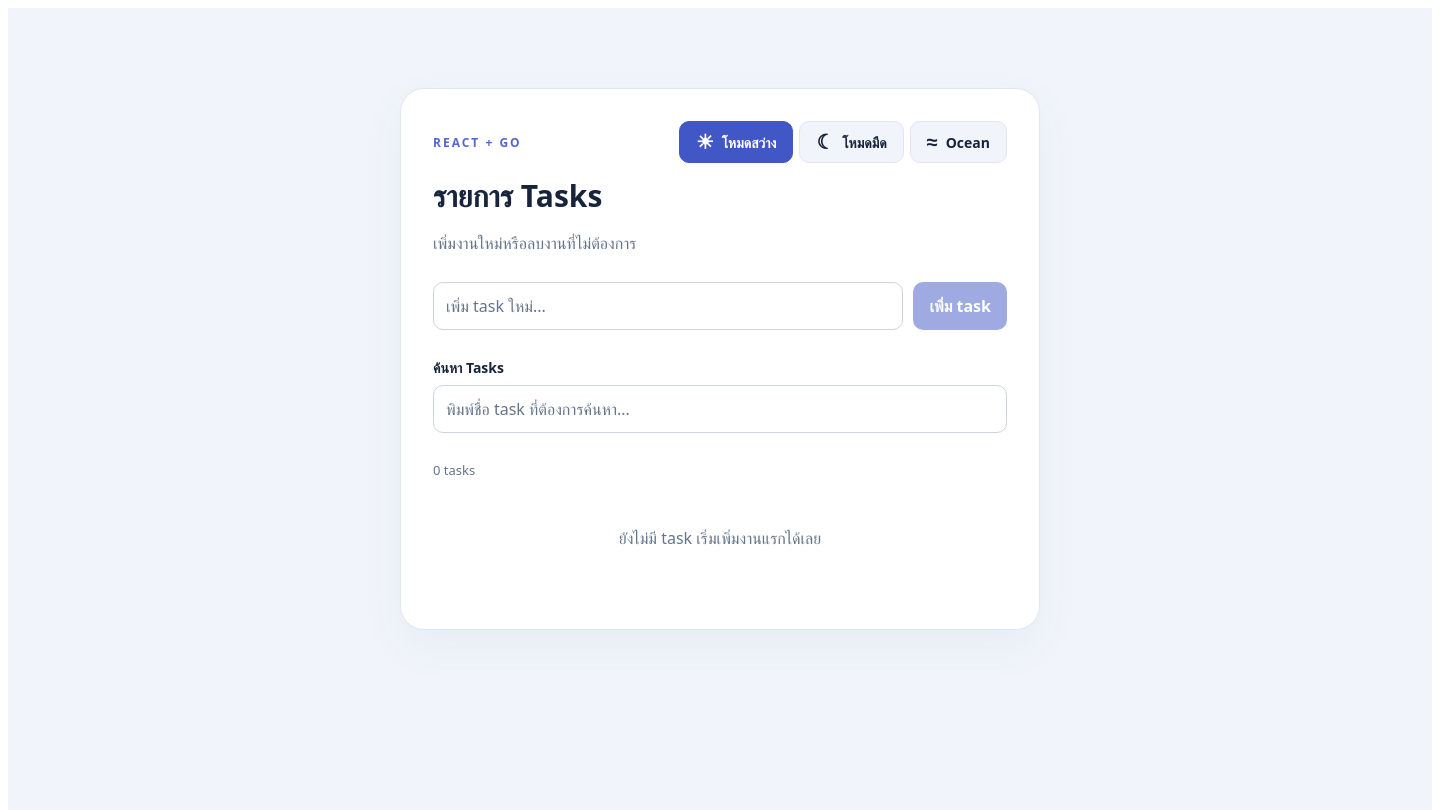
App › keeps the active search when adding and deleting matching tasks
Expected: the text "ยังไม่มี task เริ่มเพิ่มงานแรกได้เลย" is shown, [619, 527, 821, 549]
Type "test" into the search field.
click(720, 409); type("test")  # box [433, 385, 1007, 433]
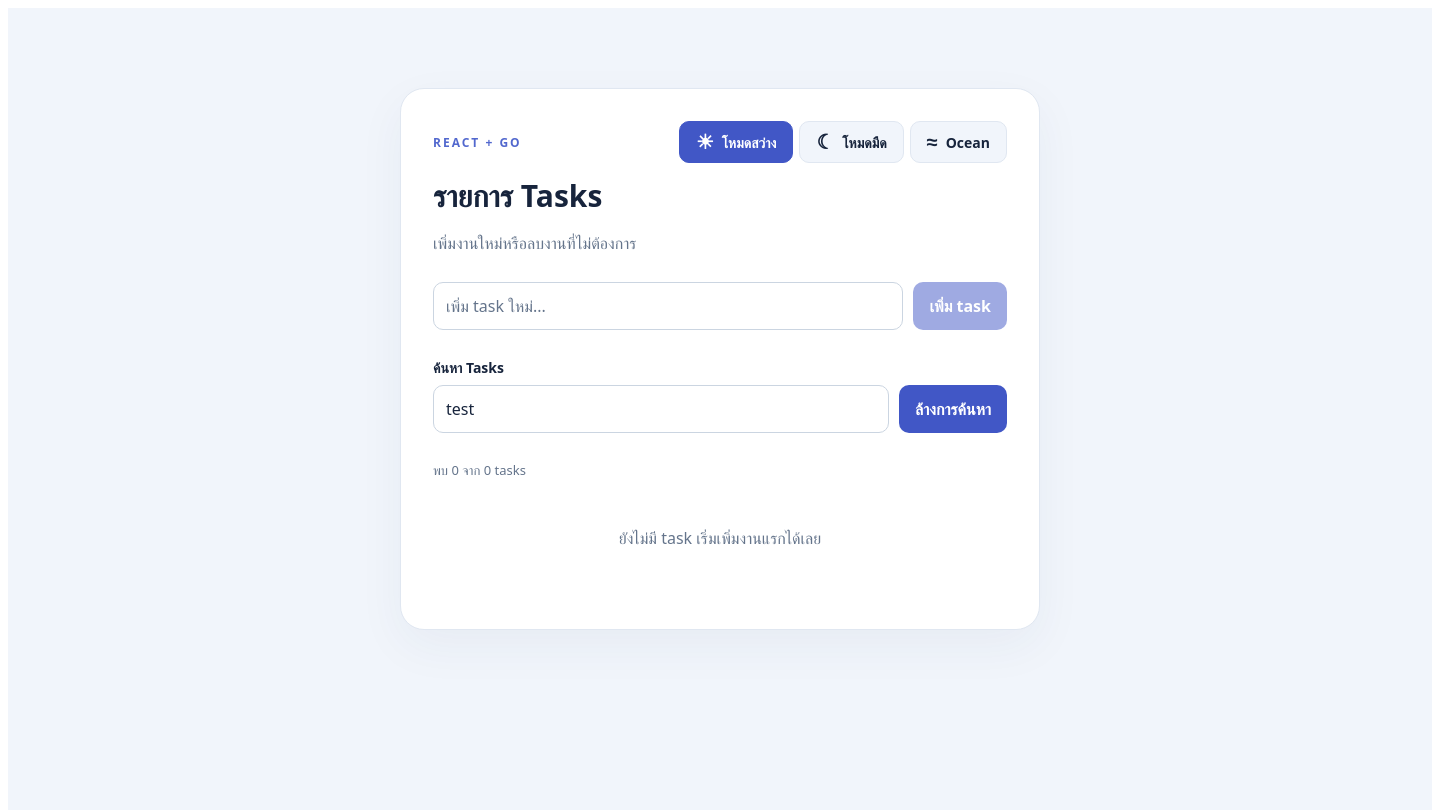
Type "Test task" into the field.
click(668, 306); type("Test task")  # box [433, 282, 903, 330]
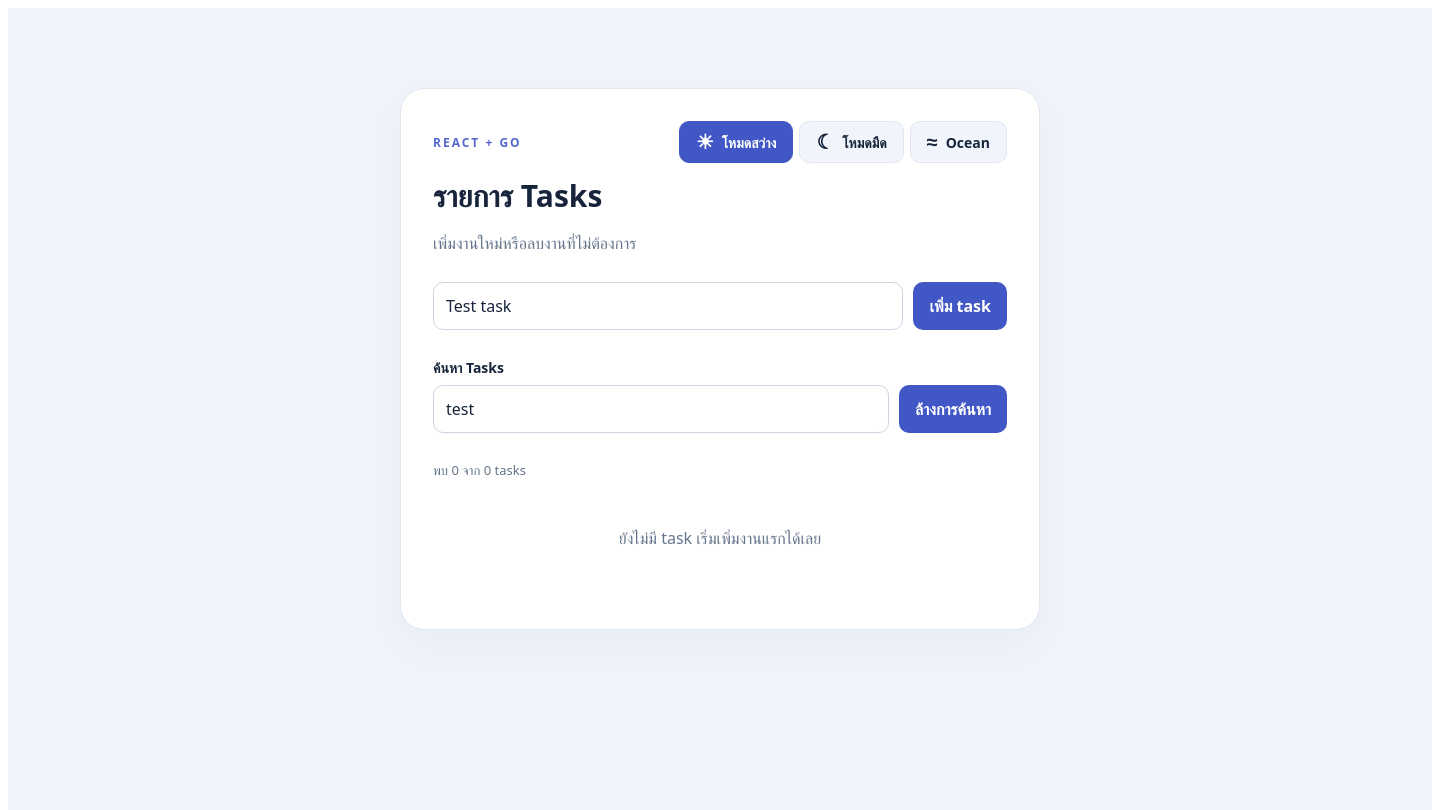
Click the button "เพิ่ม task".
click(960, 306)  # box [913, 282, 1007, 330]
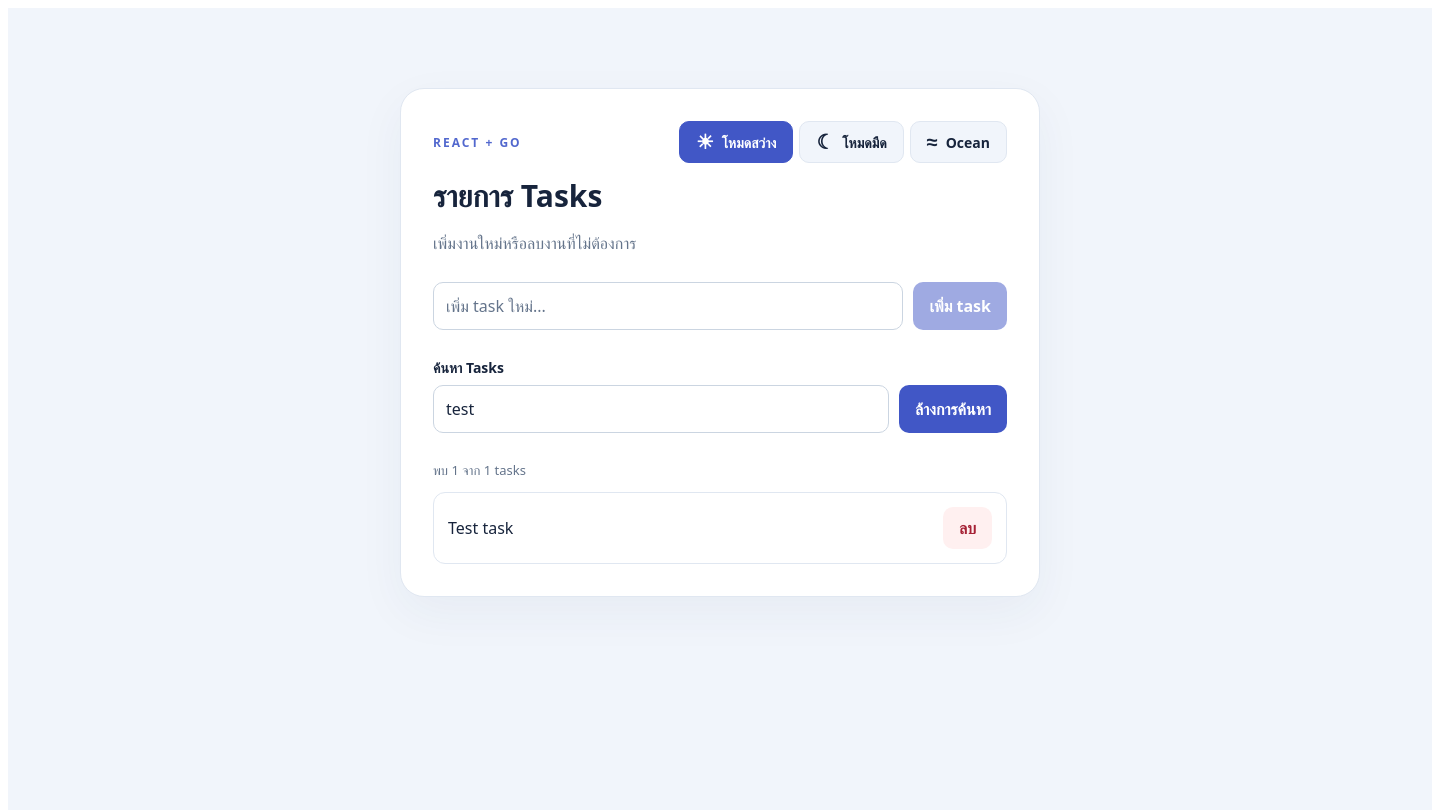
Expected: the text "Test task" is shown, [448, 517, 513, 539]
Expected: the message reads "พบ 1 จาก 1 tasks", [433, 461, 526, 479]
Click the button "ลบ".
click(967, 528)  # box [943, 507, 992, 549]
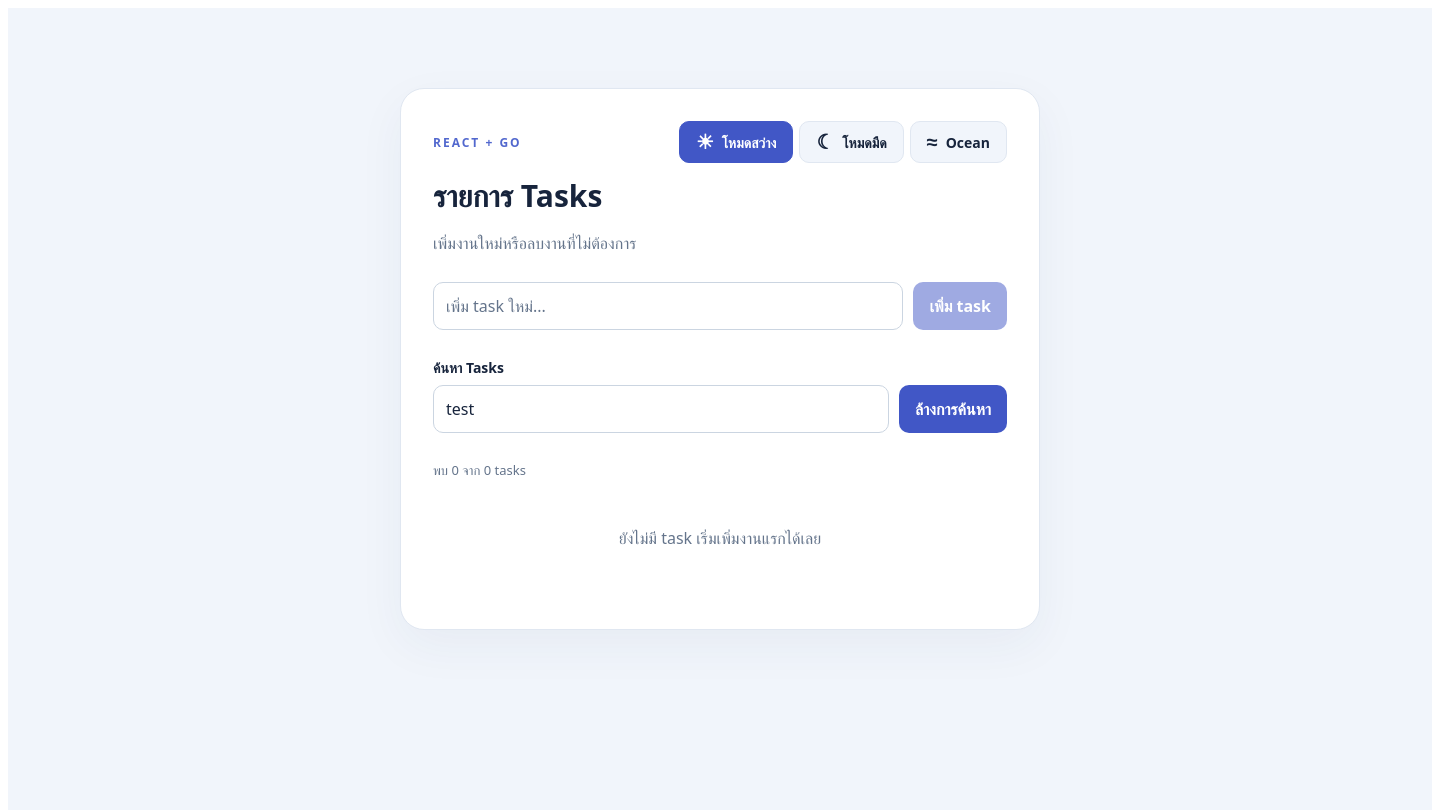
Expected: the text "ยังไม่มี task เริ่มเพิ่มงานแรกได้เลย" is shown, [619, 527, 821, 549]
